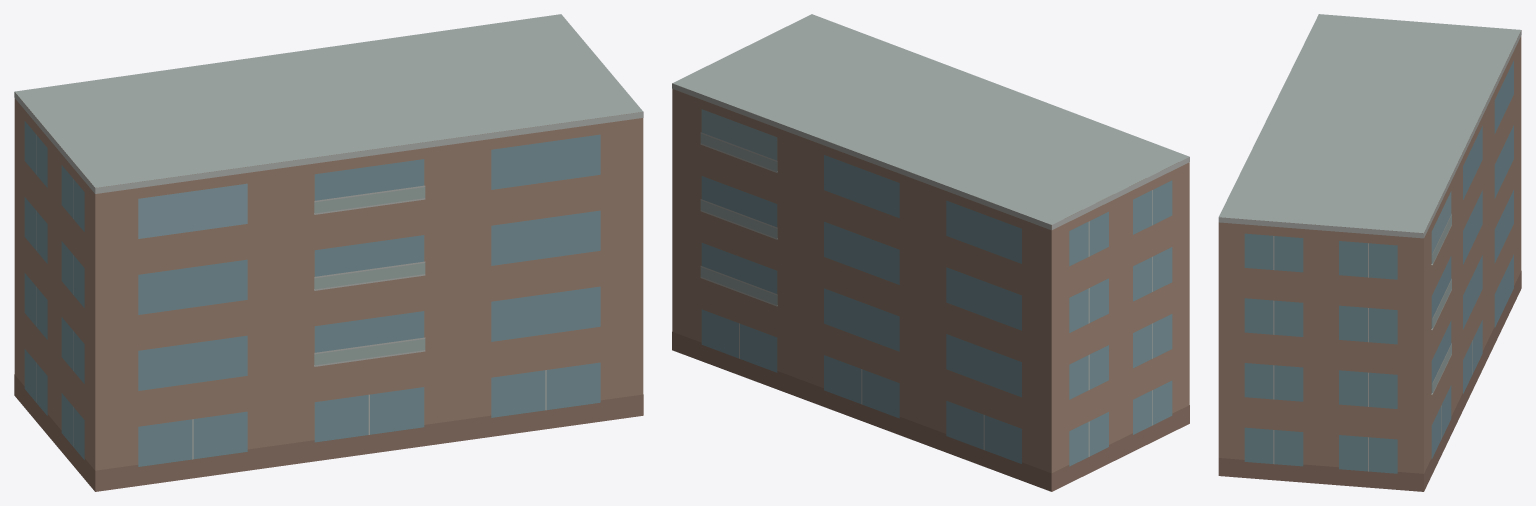
The model's file is survey-upis-32909340.glb.
3 views of the same model, side by side, from view 1: azimuth 30°, elevation 25°; view 2: azimuth 150°, elevation 25°; view 3: azimuth 270°, elevation 25° (orthographic). The views are drawn at different scales.
Visible parts, largest first — view 1: survey-upis-32909340.tmp; view 2: survey-upis-32909340.tmp; view 3: survey-upis-32909340.tmp.
Part boxes in pixels (box(x1,y1,x2,y2)): survey-upis-32909340.tmp: box(14, 14, 643, 491); survey-upis-32909340.tmp: box(672, 14, 1189, 491); survey-upis-32909340.tmp: box(1218, 14, 1521, 491).
Bounding box in the file's own units: 22 × 12.1 × 12.85.
